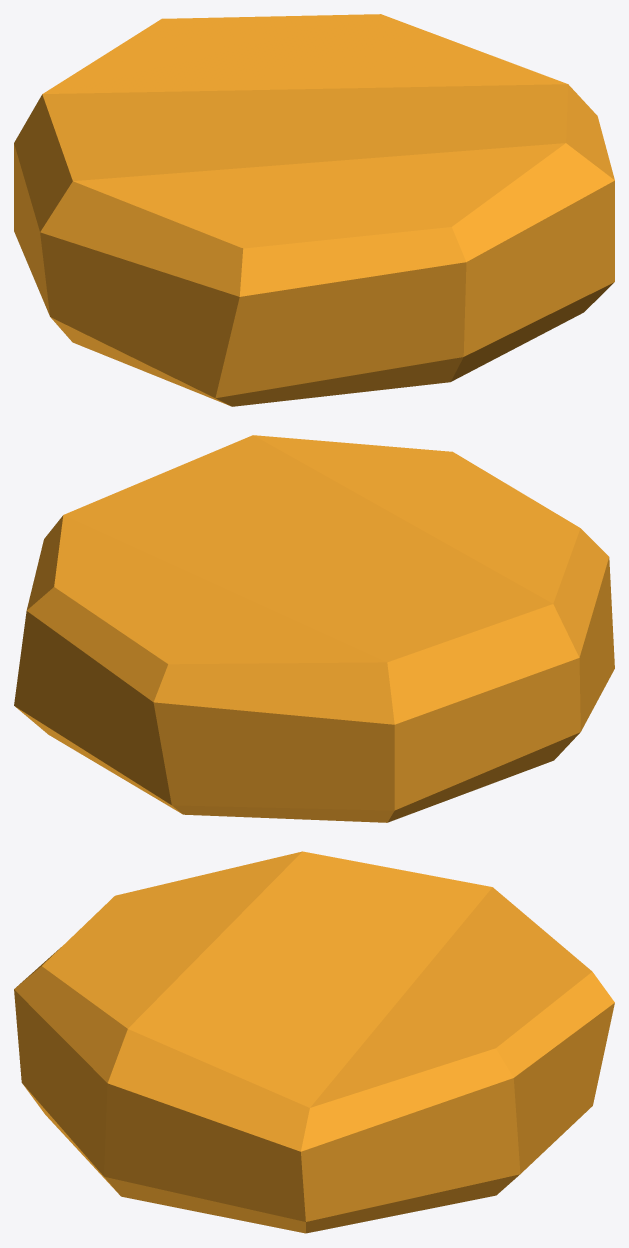
The model's file is SM_Brie.fbx.
3 renders of one model, top to bottom at view 1: azimuth 30°, elevation 25°; view 2: azimuth 150°, elevation 25°; view 3: azimuth 270°, elevation 25°, orthographic. The views are drawn at different scales.
Visible parts, largest first — view 1: brie; view 2: brie; view 3: brie.
Part boxes in pixels (x1=…): brie: x1=14, y1=14, x2=614, y2=406; brie: x1=14, y1=435, x2=614, y2=822; brie: x1=14, y1=851, x2=614, y2=1233.
Size of the model in its own units: 0.118 by 0.0367 by 0.1172.
